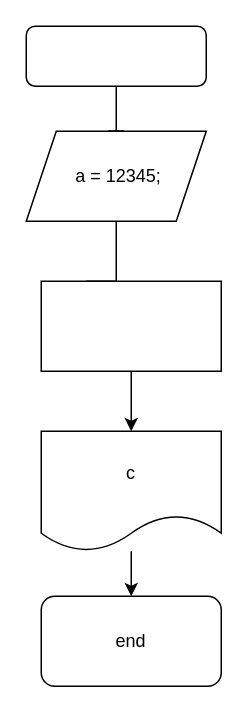
Some shapes in this 248 by 713 pixel diagram are drawn without their labels. Here are the shapes that lost their labels. From the top down, the centre of each, then its label:
At pixel 115 55: "start".
At pixel 130 325: "b = 12345 * 18 / 100.0; c = b * 3 / 100.00;".
